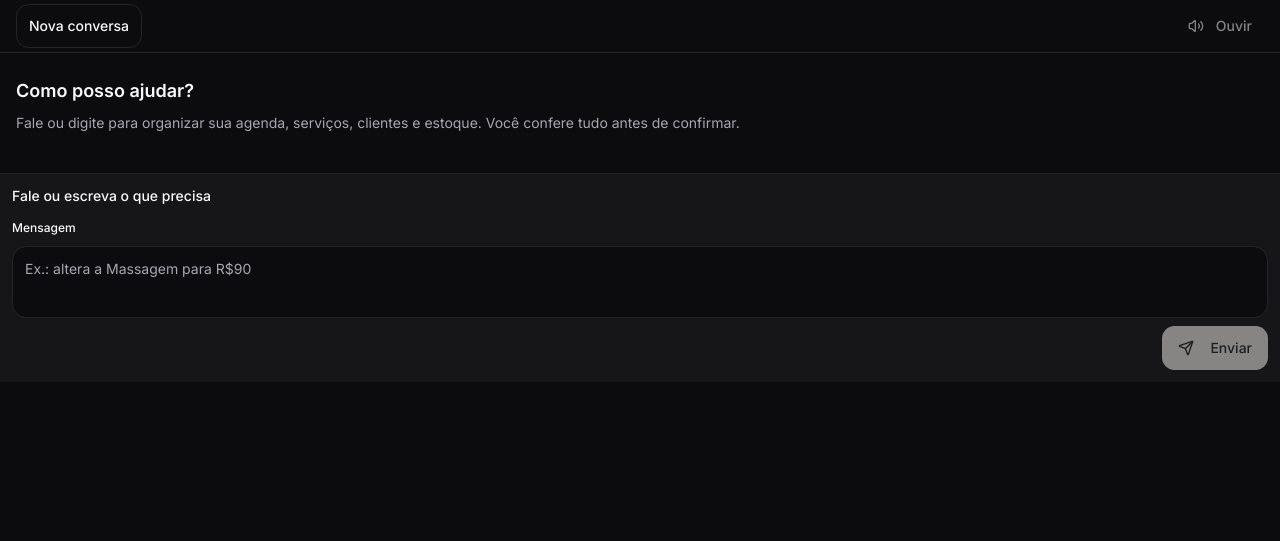
it: the review box is driven by the status (copy on) › AVAILABLE: no amber box and no "Atenção ao horário"; the proposal and Confirmar are still shown
This screenshot has width=1280, height=541.
Click the button "Nova conversa". click: (79, 26)
box: [16,4,142,48]
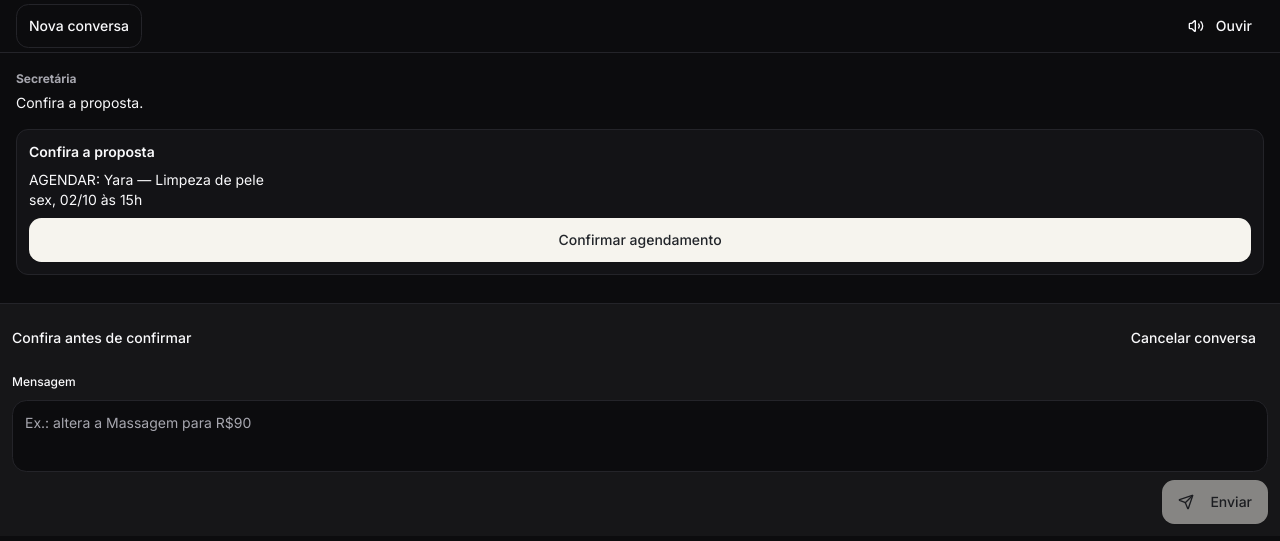
expect the button "Confirmar agendamento" is shown: met, box [29,218,1251,262]
